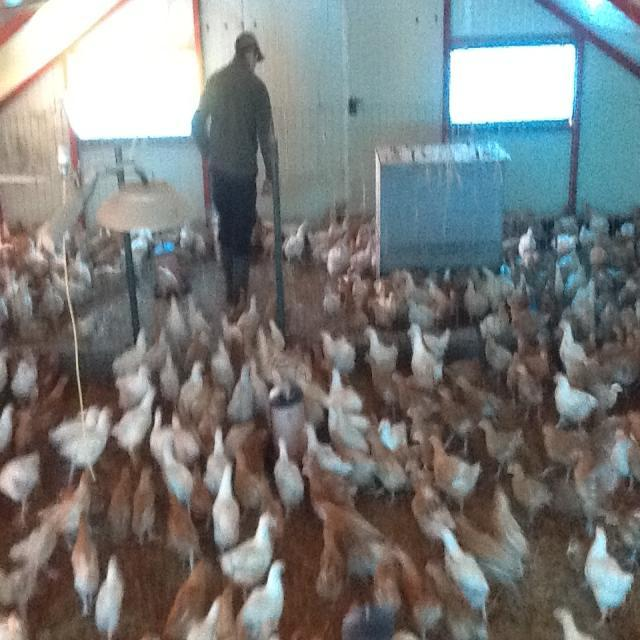poussin: (314, 492, 392, 574), (453, 509, 527, 594), (10, 370, 74, 460), (582, 524, 636, 626), (217, 510, 276, 600), (424, 562, 488, 640), (233, 555, 291, 639), (438, 526, 492, 616), (40, 468, 94, 550), (361, 426, 416, 503), (57, 408, 114, 480), (562, 349, 621, 417), (112, 384, 160, 466), (161, 557, 208, 640), (88, 552, 131, 640), (394, 546, 439, 630), (427, 431, 480, 502), (10, 506, 60, 581), (408, 470, 460, 542), (304, 454, 357, 522), (454, 371, 504, 437), (45, 398, 101, 456), (252, 328, 308, 386), (502, 356, 548, 426), (572, 445, 614, 518), (235, 422, 270, 509), (72, 507, 98, 624), (548, 369, 597, 431), (312, 522, 349, 602), (0, 455, 42, 525), (298, 422, 348, 480), (479, 418, 527, 478), (404, 322, 444, 393), (210, 462, 243, 548), (0, 550, 43, 616), (488, 486, 528, 556), (164, 492, 199, 571), (272, 437, 306, 517), (329, 423, 373, 484), (506, 462, 548, 524), (539, 423, 587, 477), (362, 350, 404, 410), (224, 362, 260, 430), (392, 366, 439, 418), (105, 465, 135, 546), (158, 436, 191, 504), (109, 359, 150, 413), (130, 462, 154, 554), (339, 599, 392, 640), (598, 274, 635, 331), (437, 376, 468, 444), (194, 377, 228, 439), (317, 326, 359, 376), (364, 556, 402, 611), (113, 326, 148, 384), (186, 456, 212, 534), (509, 332, 552, 377), (327, 364, 360, 420), (556, 318, 584, 382), (546, 605, 596, 640), (50, 266, 98, 302), (189, 591, 224, 640), (206, 422, 228, 499), (12, 352, 40, 412), (510, 296, 550, 336), (176, 359, 204, 416), (362, 326, 399, 368), (171, 407, 201, 458), (280, 218, 308, 272), (158, 348, 182, 410), (608, 423, 632, 483), (621, 317, 640, 392), (422, 320, 458, 359), (322, 234, 350, 284), (594, 319, 626, 362), (428, 276, 462, 316), (214, 585, 238, 640), (186, 330, 216, 374), (370, 286, 400, 330), (570, 282, 596, 330), (10, 277, 36, 325), (483, 330, 510, 376), (180, 217, 206, 264), (483, 265, 522, 296), (166, 294, 184, 361), (560, 258, 590, 298), (608, 228, 636, 270), (82, 218, 110, 260), (212, 340, 238, 385), (217, 306, 246, 346), (322, 204, 354, 240), (150, 264, 182, 300), (42, 274, 66, 322), (145, 326, 170, 372), (462, 274, 487, 320), (482, 294, 510, 334), (180, 292, 208, 331), (401, 267, 428, 307), (380, 416, 408, 454), (0, 218, 21, 268), (319, 282, 347, 319), (97, 245, 121, 288), (0, 403, 17, 460), (405, 300, 442, 326), (11, 228, 35, 268), (0, 341, 15, 404), (352, 234, 374, 276), (240, 295, 260, 341), (250, 357, 266, 414), (27, 236, 48, 274), (350, 273, 370, 311), (514, 222, 534, 260), (549, 262, 569, 300), (268, 316, 291, 348), (556, 206, 582, 234), (356, 211, 374, 250), (130, 230, 148, 269), (554, 250, 582, 275), (258, 217, 274, 260), (576, 222, 598, 252), (588, 241, 612, 266), (553, 230, 579, 253), (591, 208, 613, 234), (2, 266, 17, 304)
